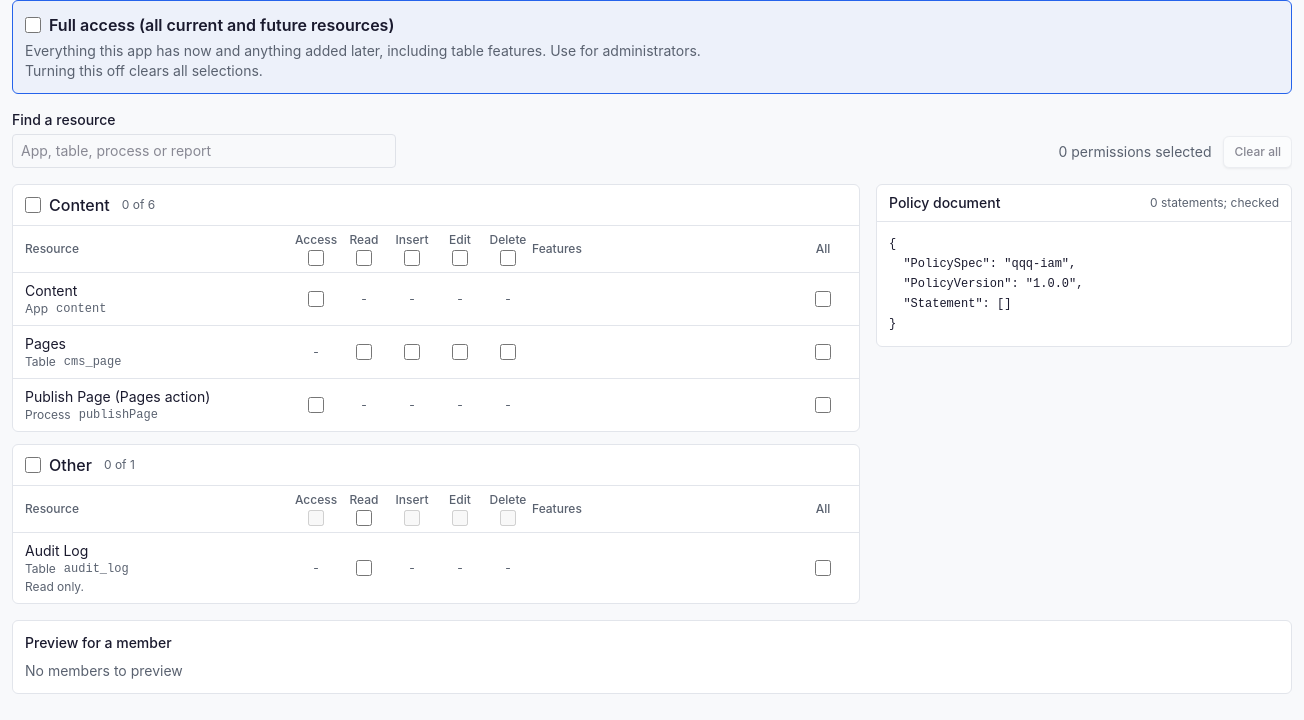
AuthentikPolicyEditorWidget › toggles a cell, a row, a column and an app
Click the checkbox named "Access: Content".
click(316, 299)  # box [308,291,324,307]
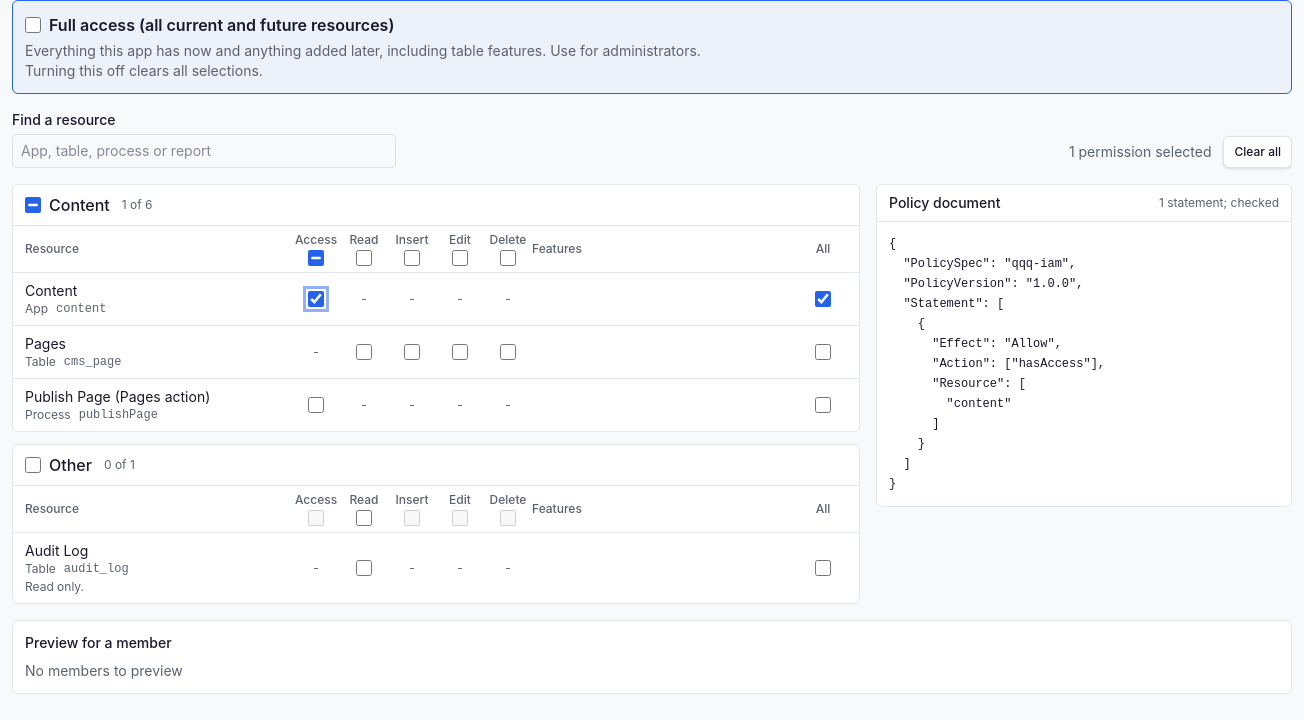
Click the checkbox named "All actions: Pages".
click(823, 352)  # box [815,344,831,360]
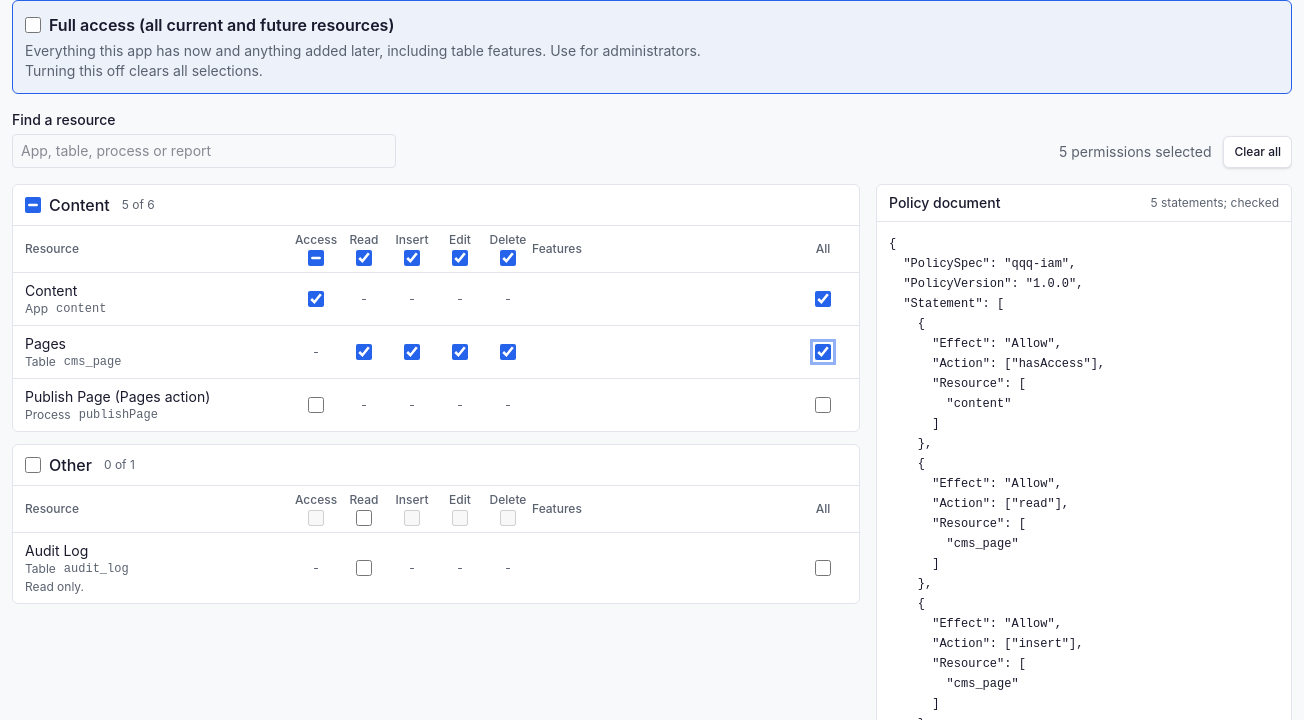
expect the checkbox named "Read: Pages" is checked: met, box [356,344,372,360]
expect the checkbox named "Delete: Pages" is checked: met, box [500,344,516,360]
Click the checkbox named "Access for everything in Content".
click(316, 258)  # box [308,250,324,266]
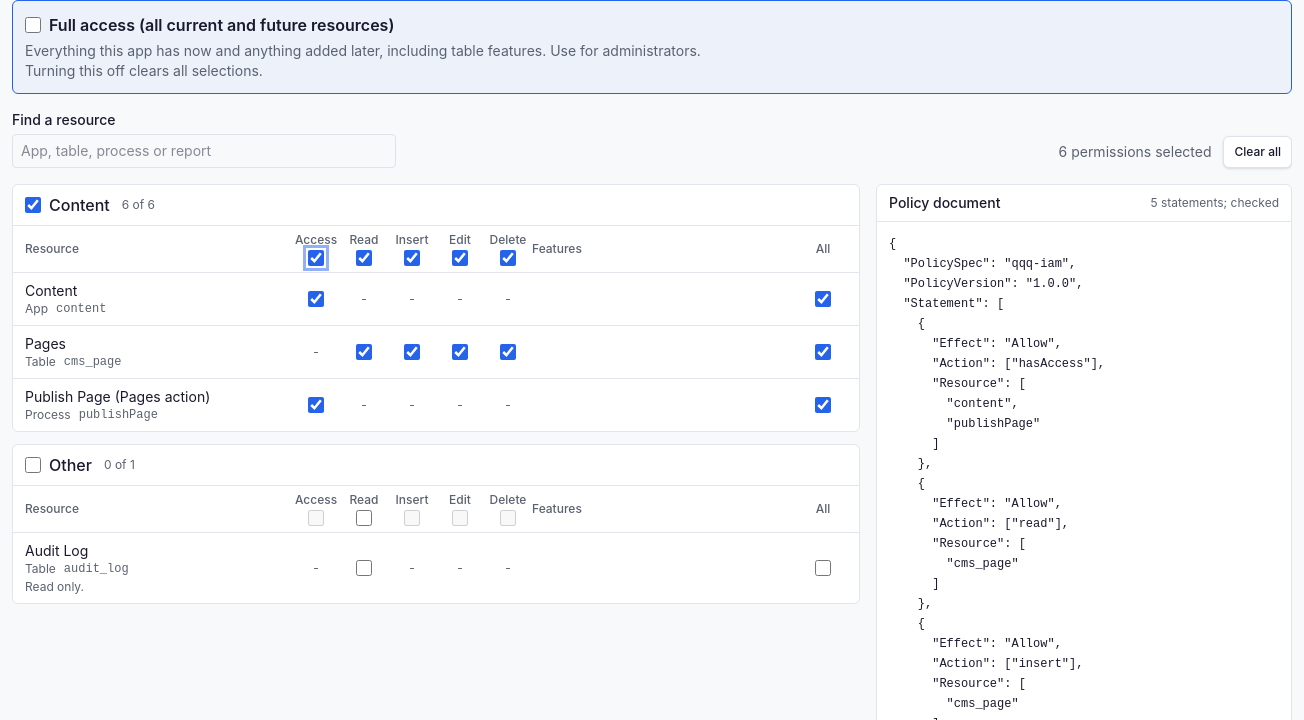
expect the checkbox named "Access: Publish Page (Pages action)" is checked: met, box [308,397,324,413]
Click the checkbox named "Everything in Content".
click(33, 205)  # box [25,197,41,213]
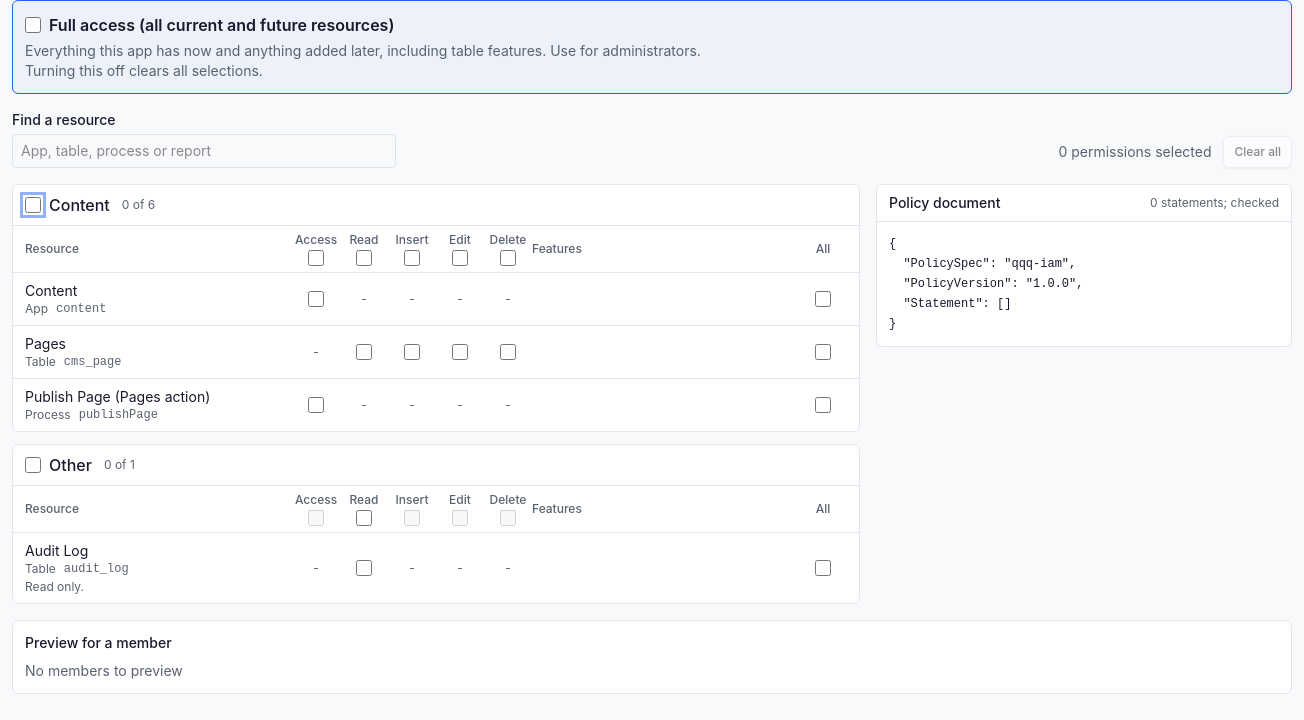
expect the checkbox named "Access: Content" is not checked: met, box [308,291,324,307]
expect the checkbox named "Read: Pages" is not checked: met, box [356,344,372,360]
Click the checkbox named "Everything in Content".
click(33, 205)  # box [25,197,41,213]
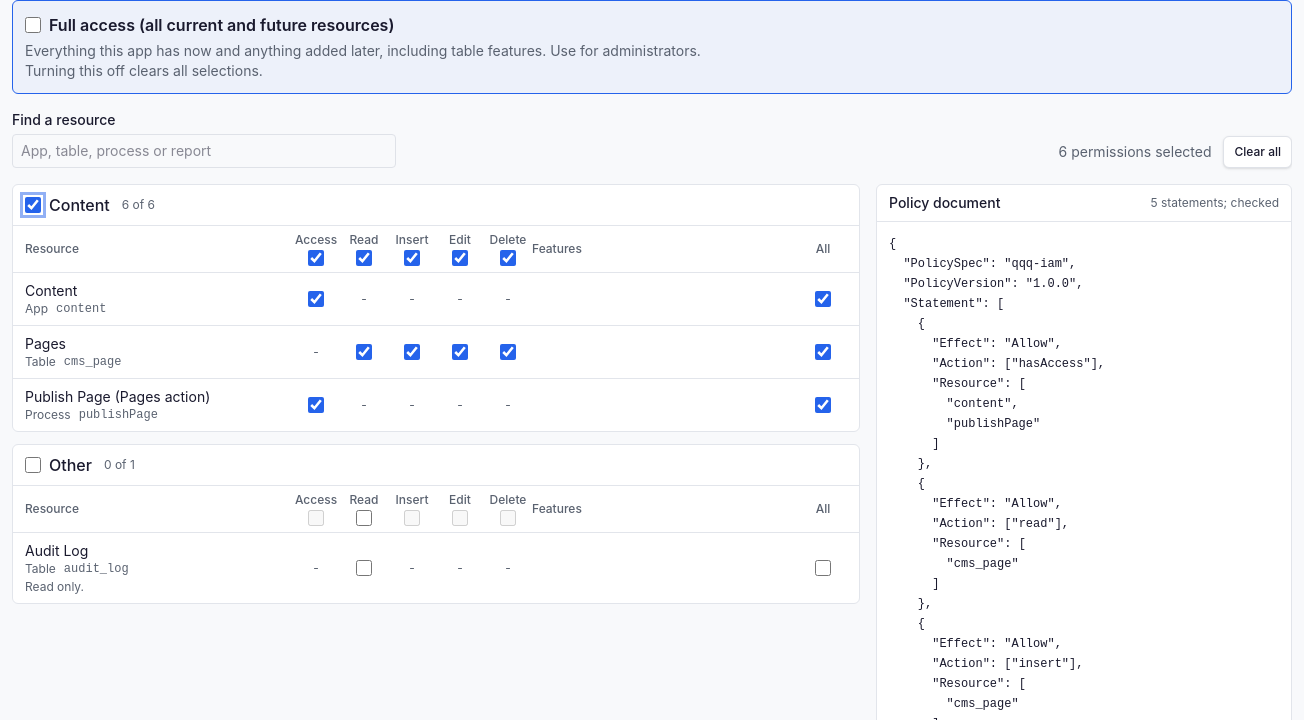
expect the text "6 permissions selected" is shown: met, box [1058,142,1212,162]
Click the button "Clear all".
click(1258, 152)  # box [1224,136,1292,168]
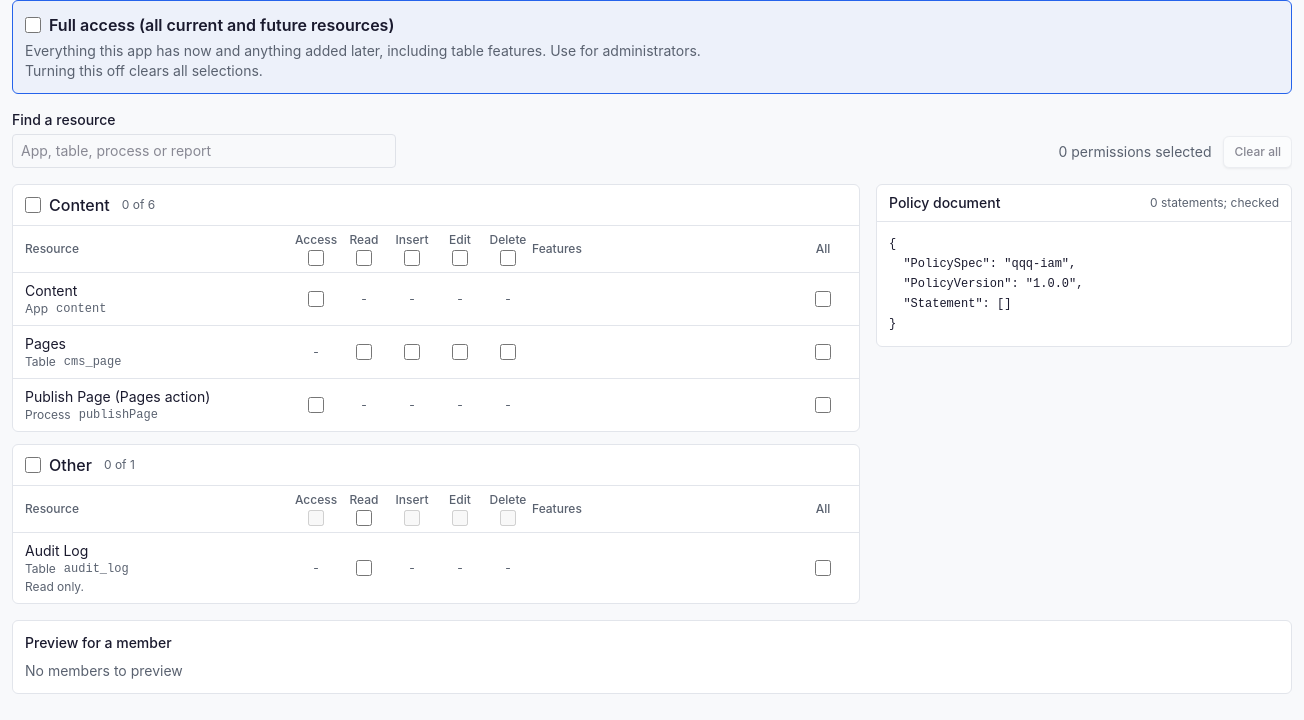
expect the text "0 permissions selected" is shown: met, box [1058,142,1212,162]
